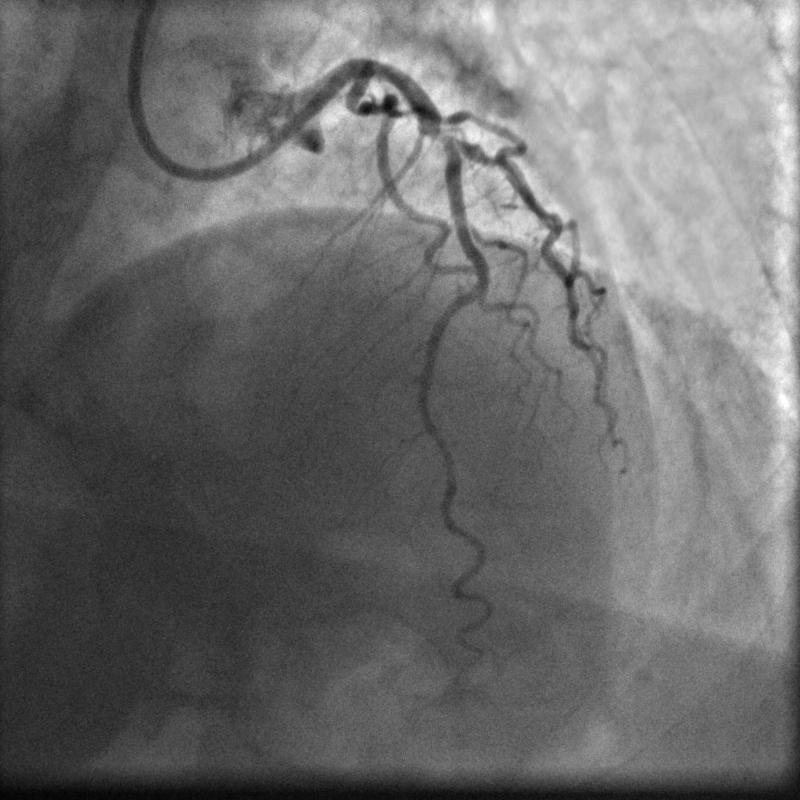Stenosis: (418, 122, 457, 146)
